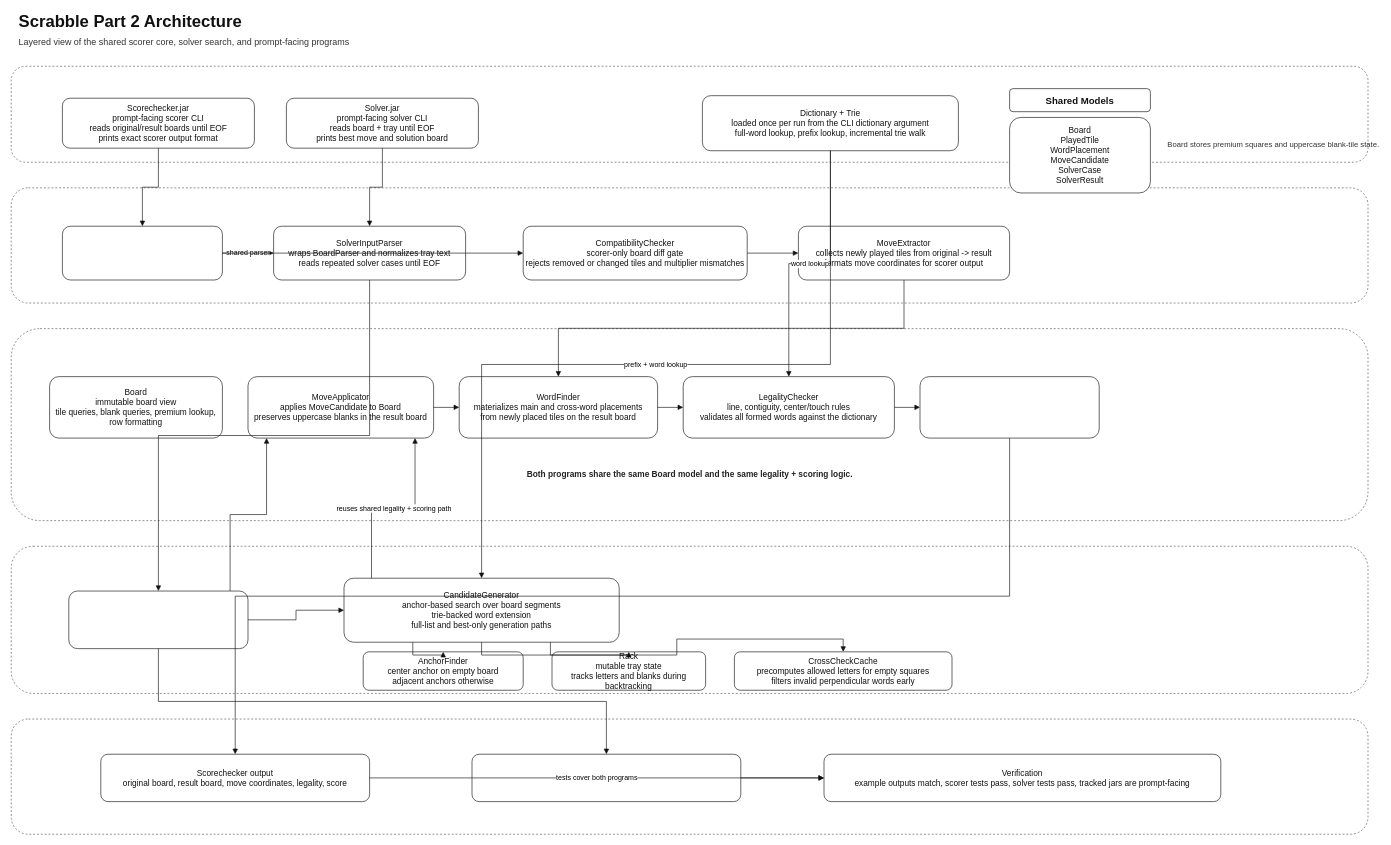
The diagram is 1391 pixels wide and 845 high, and some of its shapes have lost their labels. Here are the shapes that lost their labels. From the top down, the box of each, then its label:
(11, 66, 1368, 162): 1. Program Entry Points
(62, 226, 222, 280): BoardParser reads square board snapshots used by scorer and solver input
(11, 187, 1368, 303): 2. Input And Parsing
(11, 328, 1368, 521): 3. Shared Domain And Rules
(919, 376, 1099, 438): Scorer letter and word premiums cross-word totals and 50-point bingo bonus
(68, 590, 248, 649): SolverEngine asks for the best legal move applies it and returns SolverResult
(11, 546, 1368, 693): 4. Solver Search Layer
(471, 754, 741, 802): Solver output input board, tray, best move line, solution board
(11, 718, 1368, 834): 5. Outputs And Verification
